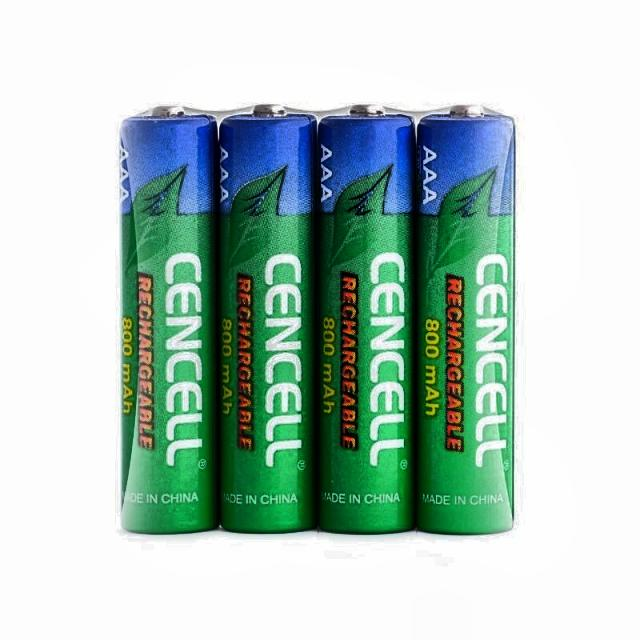Non-Valuable Waste - Batteries: (120, 108, 218, 533), (418, 106, 515, 534), (220, 105, 316, 532), (319, 106, 415, 533)
